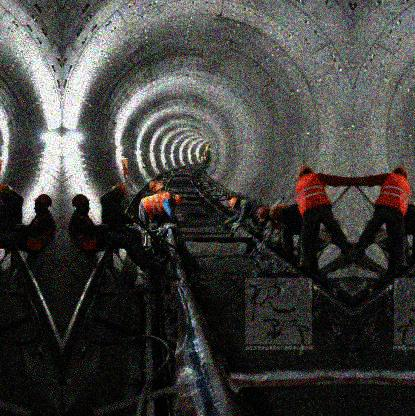helmet: (270, 204, 288, 224), (71, 195, 91, 213), (34, 194, 51, 213), (111, 184, 127, 203), (393, 164, 409, 179), (256, 207, 271, 223), (297, 165, 312, 179), (229, 196, 241, 209), (1, 184, 10, 201), (171, 193, 182, 206), (156, 181, 164, 192)
